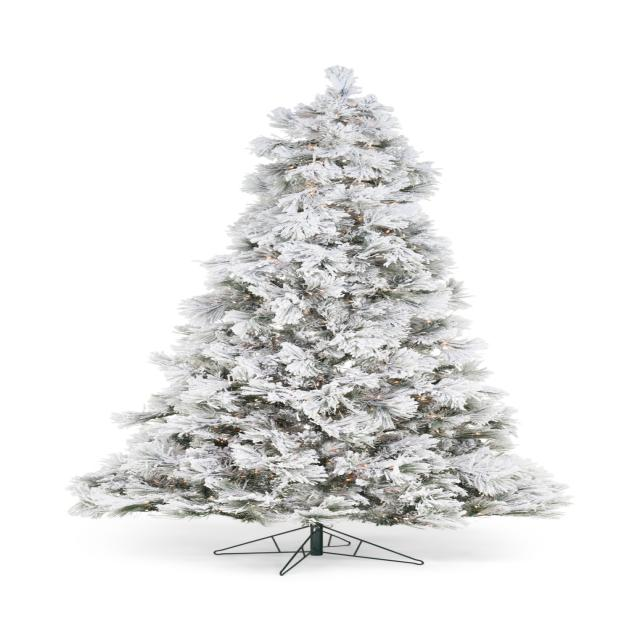Christmas-tree: (0, 33, 578, 523)
